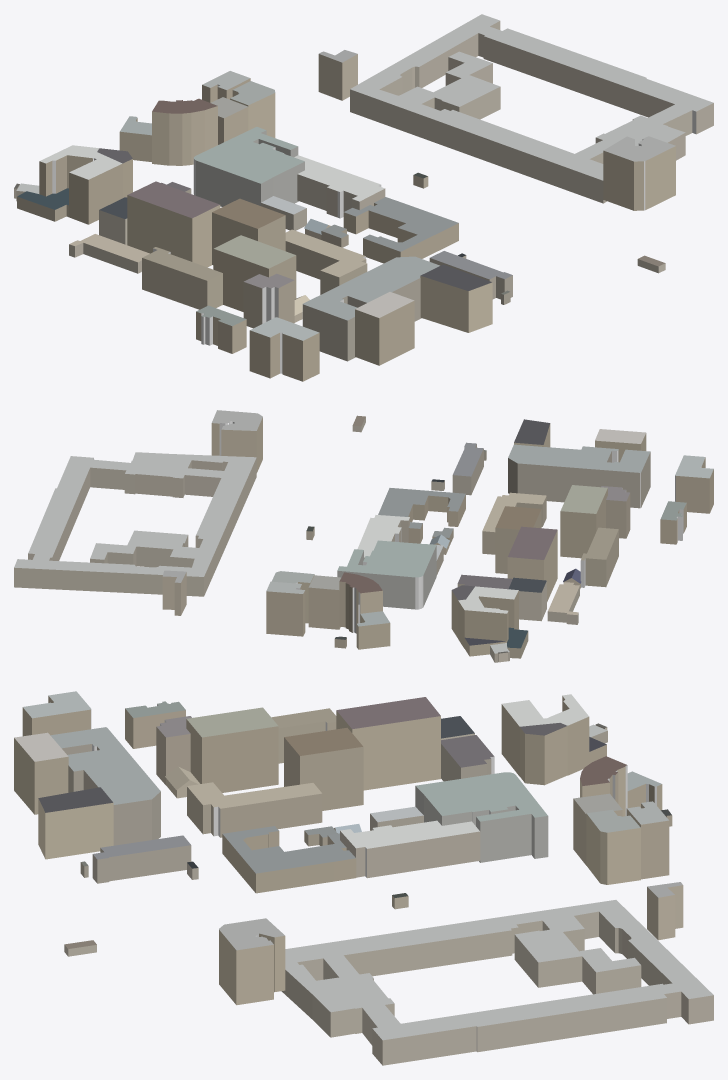
3 renders of one model, top to bottom at view 1: azimuth 30°, elevation 25°; view 2: azimuth 150°, elevation 25°; view 3: azimuth 270°, elevation 25°, orthographic. The views are drawn at different scales.
Parts seen in each view (by area): view 1: tuile; view 2: tuile; view 3: tuile.
Part boxes in pixels (box(x1,y1,x2,y2)): tuile: box(14, 14, 713, 381); tuile: box(14, 410, 713, 662); tuile: box(14, 691, 713, 1065).
Size of the model in its own units: 314 by 28.09 by 278.
